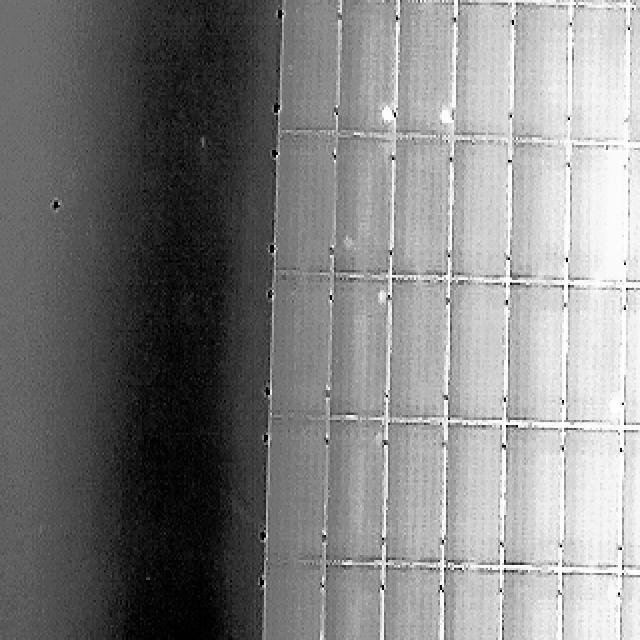Hotspots: (434, 107, 455, 134), (607, 395, 626, 421), (375, 105, 395, 129)
PV-modules: (388, 284, 450, 428), (442, 286, 504, 429), (385, 419, 446, 564), (445, 136, 507, 278), (562, 291, 624, 433), (330, 416, 390, 562), (441, 421, 501, 566), (506, 423, 566, 567), (266, 413, 325, 559), (508, 288, 568, 431), (560, 427, 620, 570), (274, 134, 334, 276), (511, 140, 571, 281), (335, 275, 394, 417), (339, 133, 398, 275), (269, 276, 328, 418), (448, 0, 509, 136), (568, 3, 628, 141), (566, 150, 625, 290), (341, 0, 403, 133), (393, 134, 451, 276), (513, 1, 572, 140), (278, 0, 339, 133), (396, 0, 454, 134), (324, 560, 388, 640), (260, 557, 320, 640), (380, 570, 442, 640), (436, 572, 498, 640), (502, 572, 564, 640), (556, 575, 616, 640), (624, 425, 640, 570), (624, 7, 640, 145), (626, 293, 640, 435), (626, 150, 640, 292), (622, 577, 640, 640)
